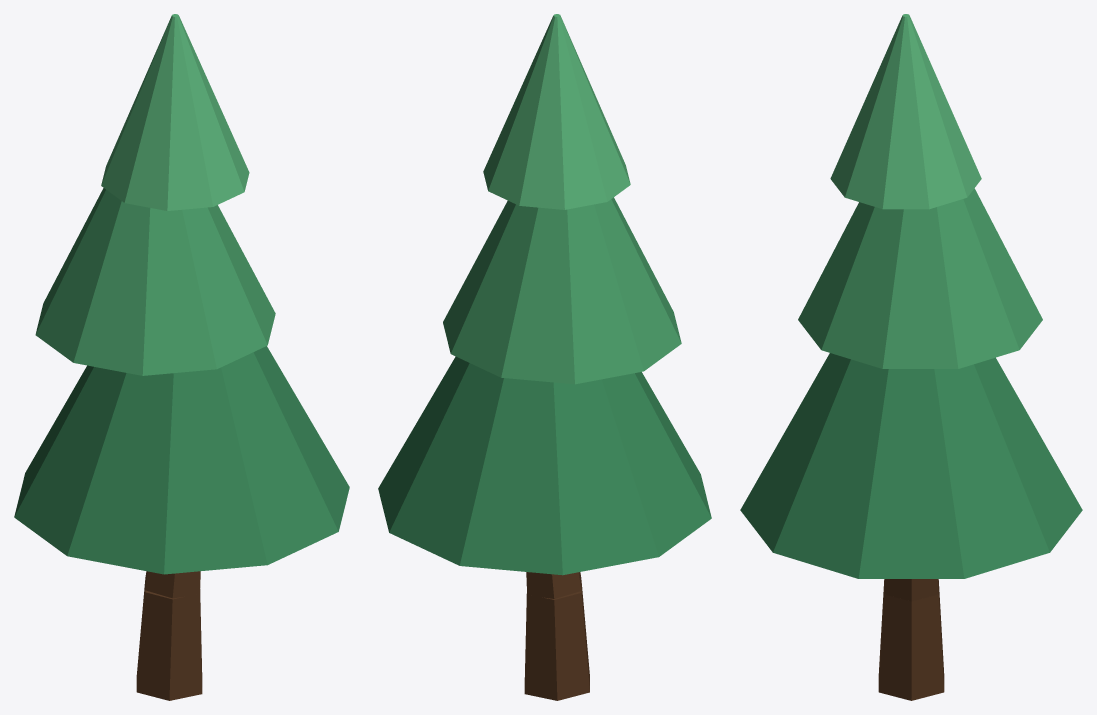
The model's file is pine.glb.
The picture shows the model from 3 angles, left to right: view 1: azimuth 30°, elevation 25°; view 2: azimuth 150°, elevation 25°; view 3: azimuth 270°, elevation 25°; orthographic projection.
Parts seen in each view (by area): view 1: pine; view 2: pine; view 3: pine.
Boxes of the visible parts, bbox=[...] form: pine: bbox=[14, 14, 349, 700]; pine: bbox=[378, 14, 711, 700]; pine: bbox=[740, 14, 1082, 700].
Size of the model in its own units: 1.81 by 4.11 by 1.9.
